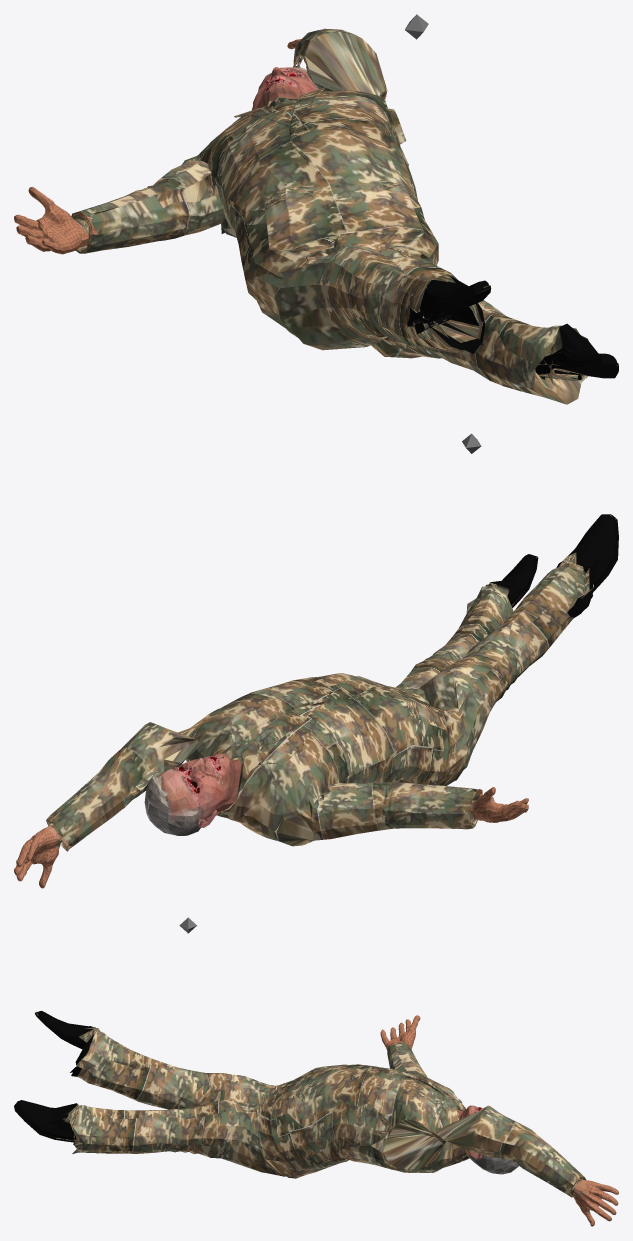
The model's file is zombie_000078.obj.
The picture shows the model from 3 angles, top to bottom: view 1: azimuth 30°, elevation 25°; view 2: azimuth 150°, elevation 25°; view 3: azimuth 270°, elevation 25°; orthographic projection. The views are drawn at different scales.
Parts seen in each view (by area): view 1: Suit_coat_orig_9___De, objGeo_Hea_orig_9___D; view 2: Suit_coat_orig_9___De, objGeo_Hea_orig_9___D; view 3: Suit_coat_orig_9___De, objGeo_Hea_orig_9___D.
Boxes of the visible parts, bbox=[...] form: Suit_coat_orig_9___De: bbox=[14, 28, 618, 404]; objGeo_Hea_orig_9___D: bbox=[252, 67, 318, 110]; Suit_coat_orig_9___De: bbox=[14, 514, 618, 888]; objGeo_Hea_orig_9___D: bbox=[144, 753, 241, 835]; Suit_coat_orig_9___De: bbox=[14, 1011, 618, 1226]; objGeo_Hea_orig_9___D: bbox=[458, 1105, 518, 1174].
Bounding box in the file's own units: 1.36 × 1.08 × 2.39.
